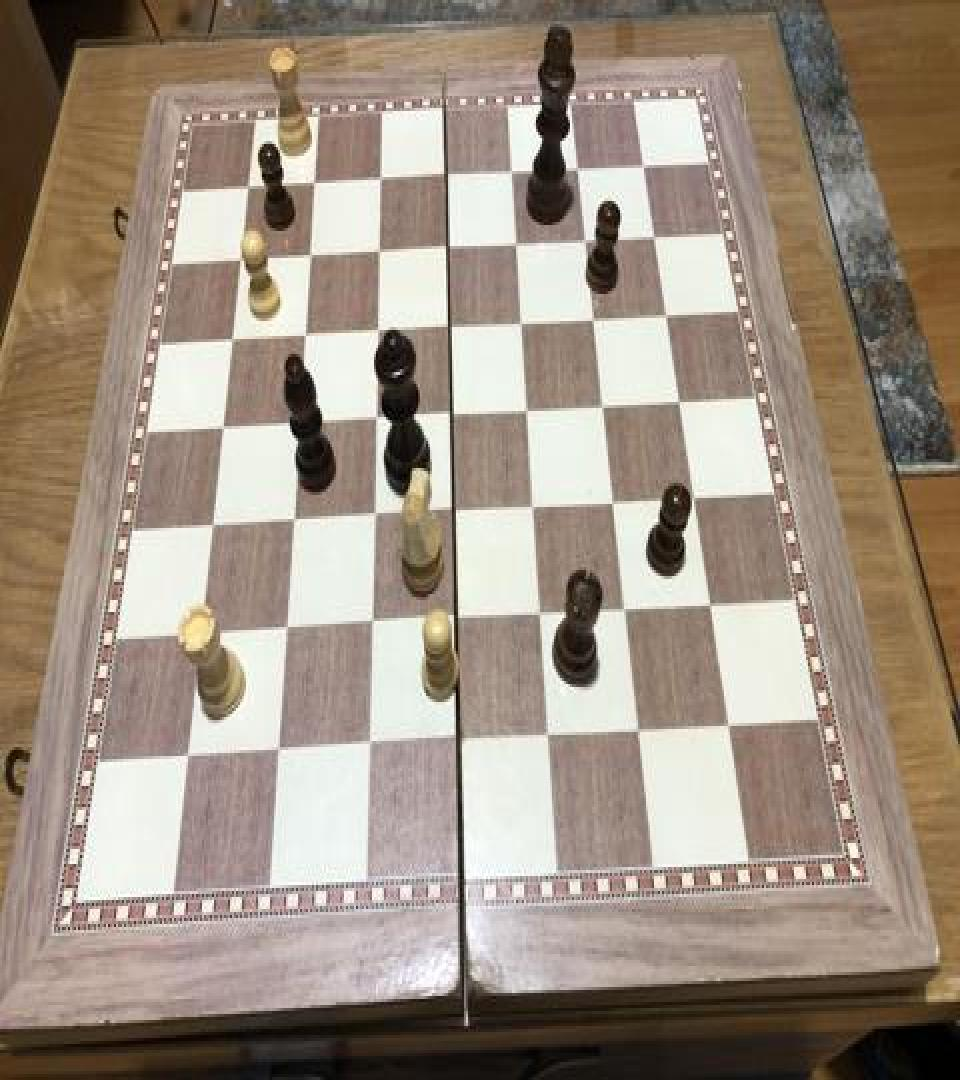xcorner: (531, 595, 555, 632), (446, 601, 470, 638), (190, 616, 214, 653), (358, 727, 382, 764), (268, 733, 292, 770), (633, 147, 657, 183), (568, 152, 592, 188), (502, 156, 526, 192), (436, 159, 460, 195), (370, 164, 394, 200), (304, 168, 328, 204), (238, 171, 262, 207), (644, 219, 668, 255), (576, 222, 600, 258), (507, 226, 531, 262), (437, 231, 461, 267), (368, 236, 392, 272), (299, 240, 323, 276), (230, 243, 254, 279), (657, 297, 681, 333), (584, 302, 608, 338), (512, 306, 536, 342), (439, 309, 463, 345), (367, 314, 391, 350), (294, 318, 318, 354), (222, 322, 246, 358), (670, 382, 694, 418), (594, 387, 618, 423), (517, 392, 541, 428), (441, 396, 465, 432), (365, 400, 389, 436), (289, 406, 313, 442), (212, 411, 236, 447), (685, 478, 709, 514), (604, 483, 628, 519), (524, 488, 548, 524), (443, 494, 467, 530), (363, 498, 387, 534), (282, 502, 306, 538), (202, 507, 226, 543), (701, 585, 725, 621), (616, 591, 640, 627), (361, 606, 385, 642), (275, 612, 299, 648), (720, 705, 744, 741), (630, 711, 654, 747), (539, 717, 563, 753), (449, 722, 473, 758), (177, 738, 201, 774)
